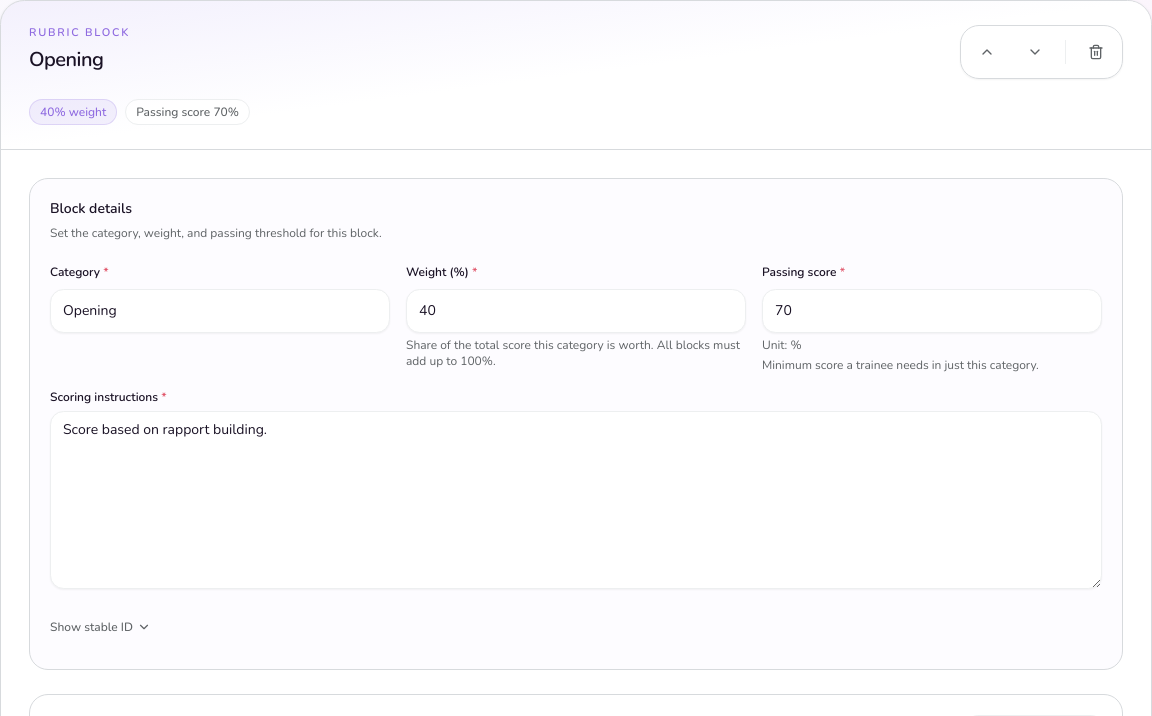
Scenario: RubricBlockEditor Stable ID (read-only, hidden behind a disclosure) › reveals the block's read-only Stable ID after clicking 'Show stable ID'
Click the button "Show stable ID" at (100, 627), box [50,605,151,649]
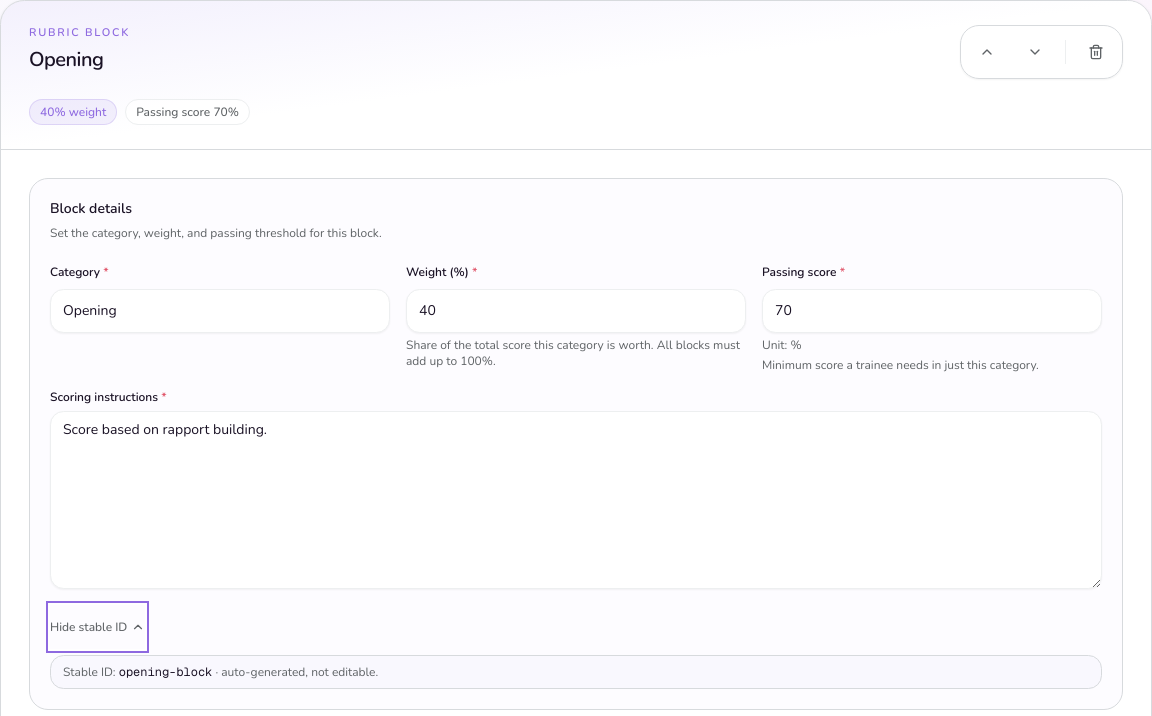
Expected: the text "opening-block" is shown, [119,664,212,680]
